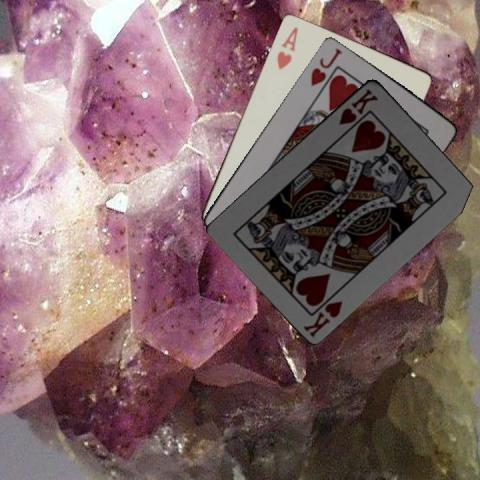Ah: (274, 23, 300, 72)
Jh: (307, 45, 344, 87)
Kh: (336, 84, 380, 126), (300, 297, 344, 339)
